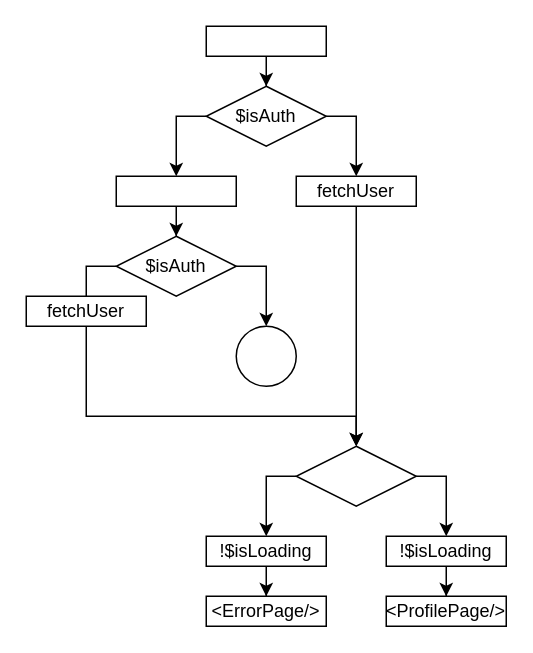
Image size: 533x653. Some labels were removed from this diagram. Here are the shapes that lost their labels. From the top down, the centre of each, then its label:
At (x=265, y=40): "$isLoading".
At (x=175, y=190): "checkAuth".
At (x=265, y=355): "login".
At (x=355, y=475): "$user".
